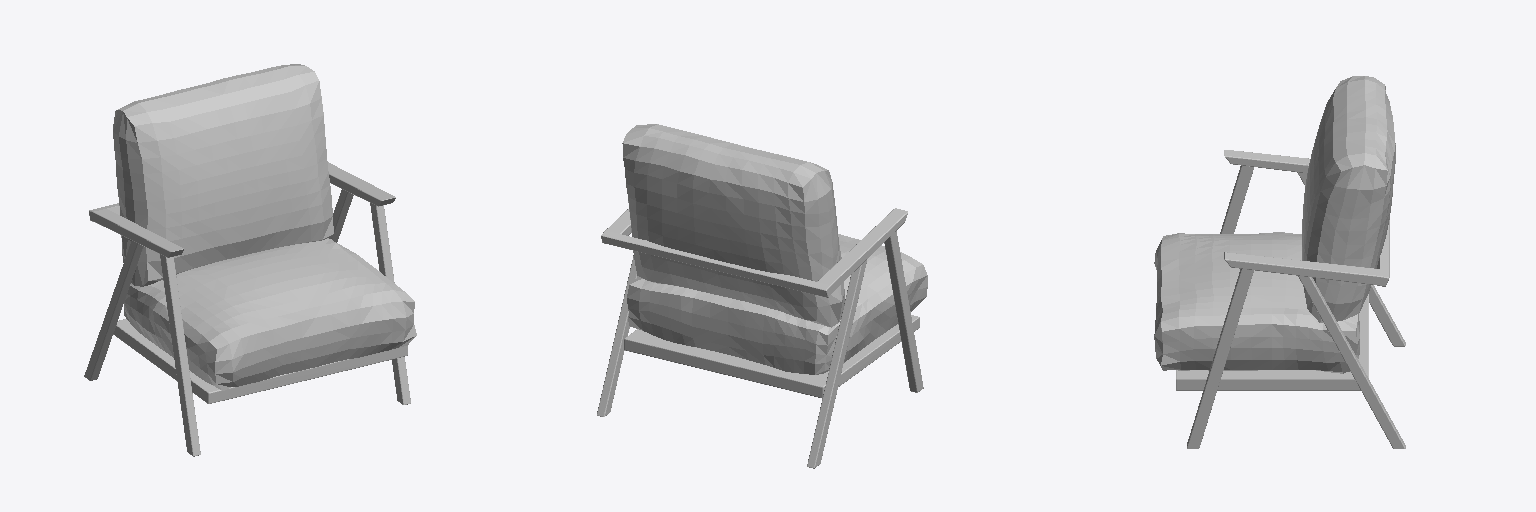
Rendered from Chair_002.obj.
The picture shows the model from 3 angles: view 1: azimuth 30°, elevation 25°; view 2: azimuth 150°, elevation 25°; view 3: azimuth 270°, elevation 25°; orthographic projection.
Parts seen in each view (by area): view 1: Chair_002; view 2: Chair_002; view 3: Chair_002.
Part boxes in pixels (x1,y1,x2,y2): Chair_002: (84,64,416,456); Chair_002: (597,124,927,468); Chair_002: (1154,76,1405,448).
Bounding box in the file's own units: 0.8193 × 0.9721 × 0.7898.